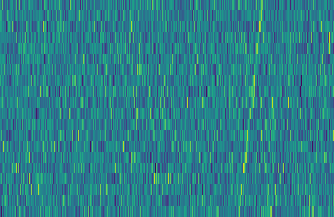signal: (235, 0, 269, 217)
